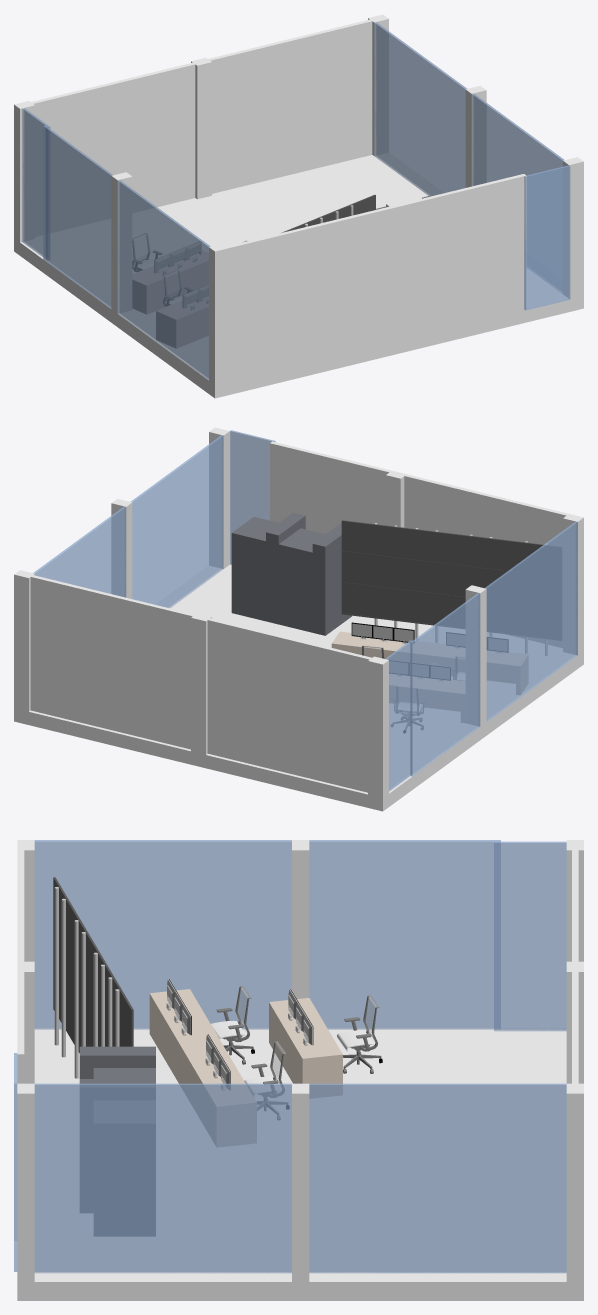
File: room.glb
3 renders of one model, top to bottom at view 1: azimuth 30°, elevation 25°; view 2: azimuth 150°, elevation 25°; view 3: azimuth 270°, elevation 25°, orthographic. The views are drawn at different scales.
Parts seen in each view (by area): view 1: 3D room; view 2: 3D room; view 3: 3D room.
Part boxes in pixels (bbox=[...]): 3D room: bbox=[14, 14, 583, 398]; 3D room: bbox=[14, 427, 583, 811]; 3D room: bbox=[14, 840, 583, 1300].
Bounding box in the file's own units: 8.67 × 3.3 × 8.23.
